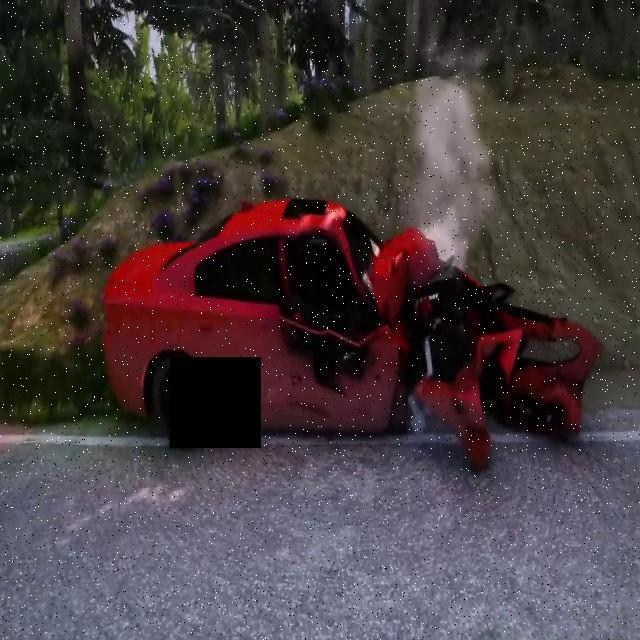single accident: (15, 84, 632, 477)
